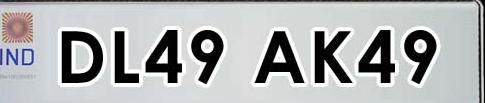4: (353, 24, 398, 88), (141, 26, 186, 84)
9: (399, 24, 438, 86), (188, 26, 224, 85)
A: (250, 27, 309, 87)
D: (56, 24, 106, 86)
K: (308, 26, 355, 86)
L: (109, 27, 141, 88)
